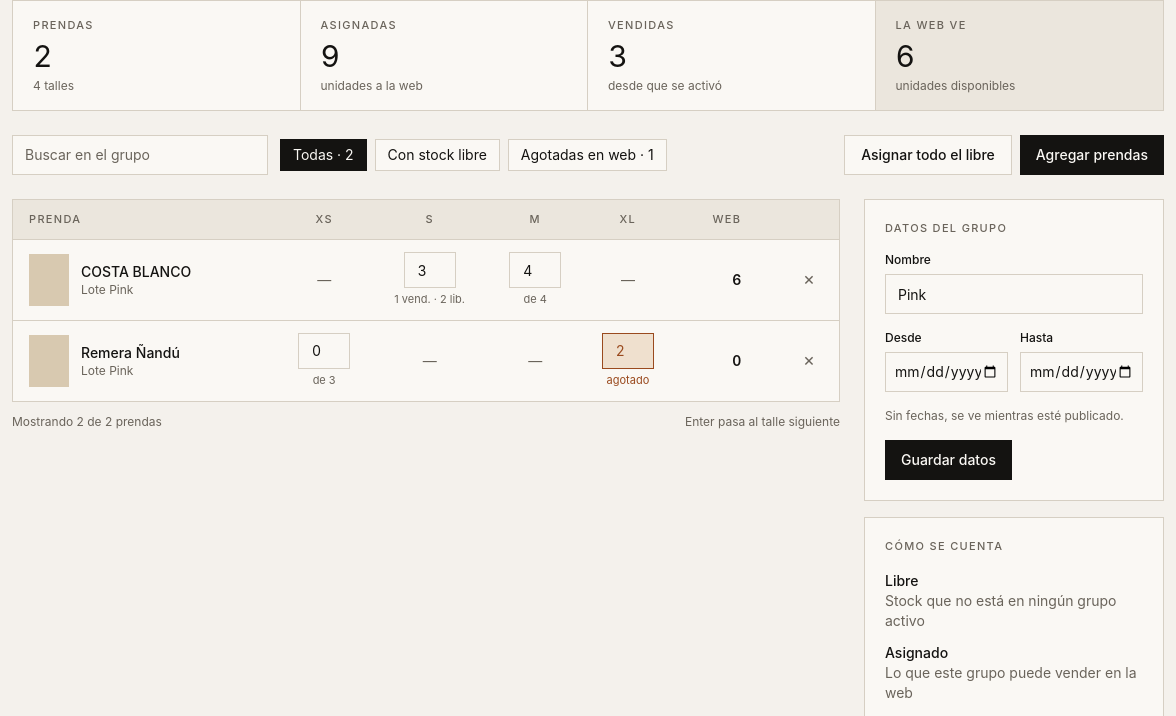
GroupWorkspace › search and filters › searches by name ignoring case and accents
In the search field labelled "Buscar en el grupo": (140, 154) [12,134,268,174], type "nandu"
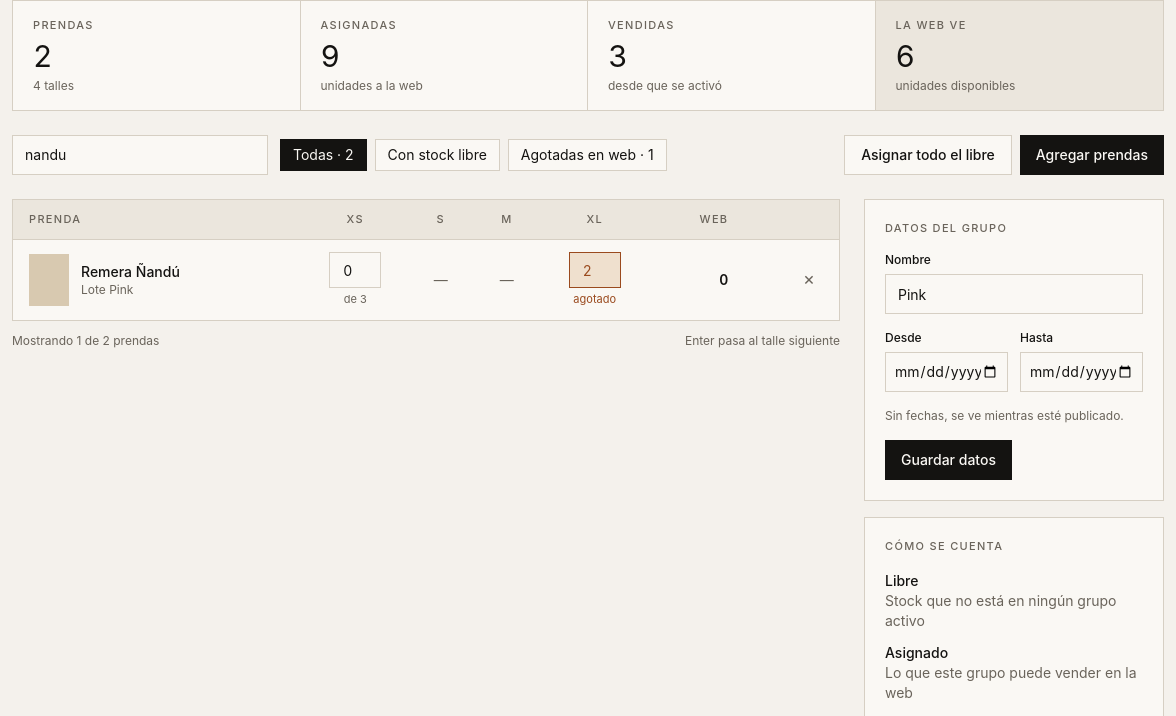
Expected: the text "Remera Ñandú" is shown, [81,262,180,282]
Expected: the text "COSTA BLANCO" is gone
Expected: the text "Mostrando 1 de 2 prendas" is shown, [12,333,159,349]
